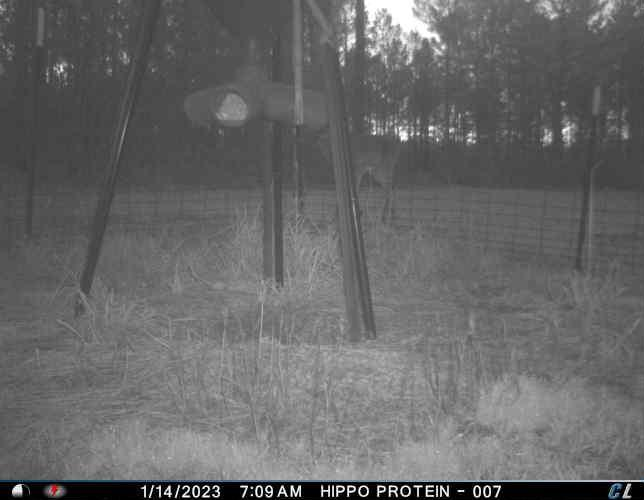Deer: (304, 126, 400, 219)
